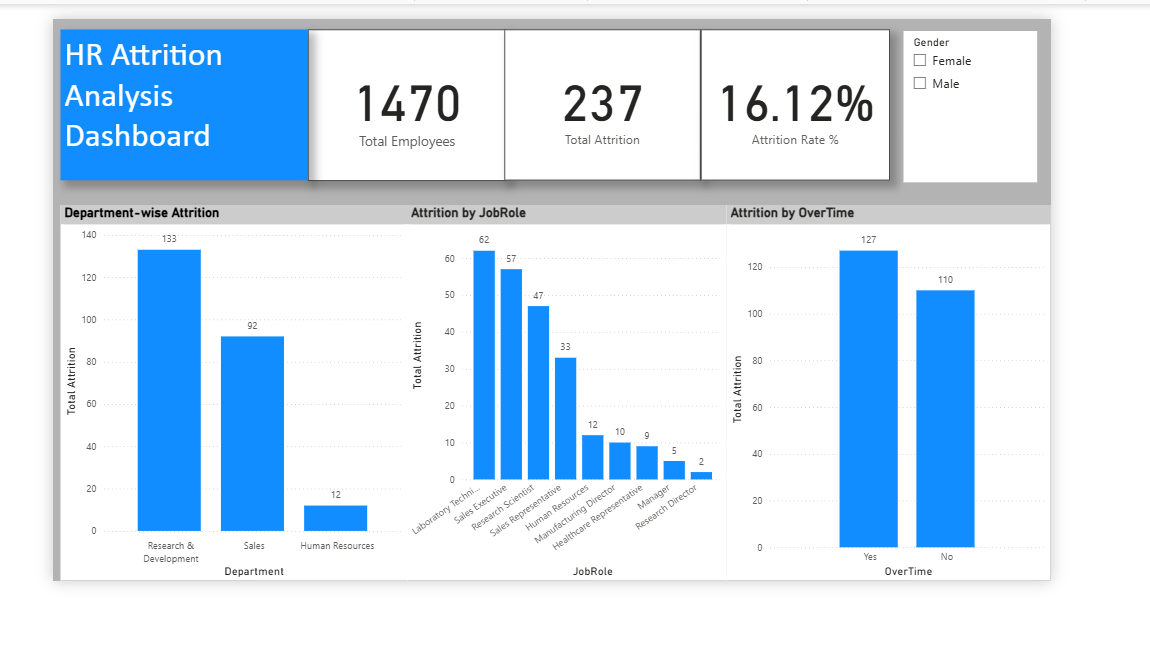

The page's visual inventory and layout, read from the dashboard file:
{"tool":"powerbi","page":{"name":"HR Attrition Dashboard","canvas":[1280,720],"ordinal":0},"visuals":[{"type":"card","fields":{"Values":["hr_analysis hr_data.Total Employees"]},"box":[326.9,13.5,253.8,194.2],"z":0},{"type":"card","fields":{"Values":["hr_analysis hr_data.Total Attrition"]},"box":[579.1,14,251.2,193],"z":1000},{"type":"card","fields":{"Values":["hr_analysis hr_data.Attrition Rate %"]},"box":[830.2,14,241.9,193],"z":2000},{"type":"clusteredColumnChart","title":"Department-wise Attrition","fields":{"Category":["hr_analysis hr_data.Department"],"Y":["hr_analysis hr_data.Total Attrition"]},"box":[8.7,238.2,445,481.5],"z":3000},{"type":"slicer","fields":{"Values":["hr_analysis hr_data.Gender"]},"box":[1090.4,15.4,171.2,194.2],"z":4000},{"type":"clusteredColumnChart","title":"Attrition by JobRole","fields":{"Category":["hr_analysis hr_data.JobRole"],"Y":["hr_analysis hr_data.Total Attrition"]},"box":[453.7,238.2,410.3,481.5],"z":5000},{"type":"clusteredColumnChart","title":"Attrition by OverTime","fields":{"Category":["hr_analysis hr_data.OverTime"],"Y":["hr_analysis hr_data.Total Attrition"]},"box":[864,238.2,415.5,481.5],"z":5001},{"type":"textbox","box":[9,14,317,193],"z":5002}]}

Visuals, with their boxes in screenshot pixels (x1, y1, x2, y2), scaled from the page's 1280x720 canvas onto the 1150x653 screenshot:
card - hr_analysis hr_data.Total Employees: region(294, 12, 522, 188)
card - hr_analysis hr_data.Total Attrition: region(520, 13, 746, 188)
card - hr_analysis hr_data.Attrition Rate %: region(746, 13, 963, 188)
"Department-wise Attrition" clusteredColumnChart: region(8, 216, 408, 652)
slicer - hr_analysis hr_data.Gender: region(980, 14, 1133, 190)
"Attrition by JobRole" clusteredColumnChart: region(408, 216, 776, 652)
"Attrition by OverTime" clusteredColumnChart: region(776, 216, 1149, 652)
textbox: region(8, 13, 293, 188)
